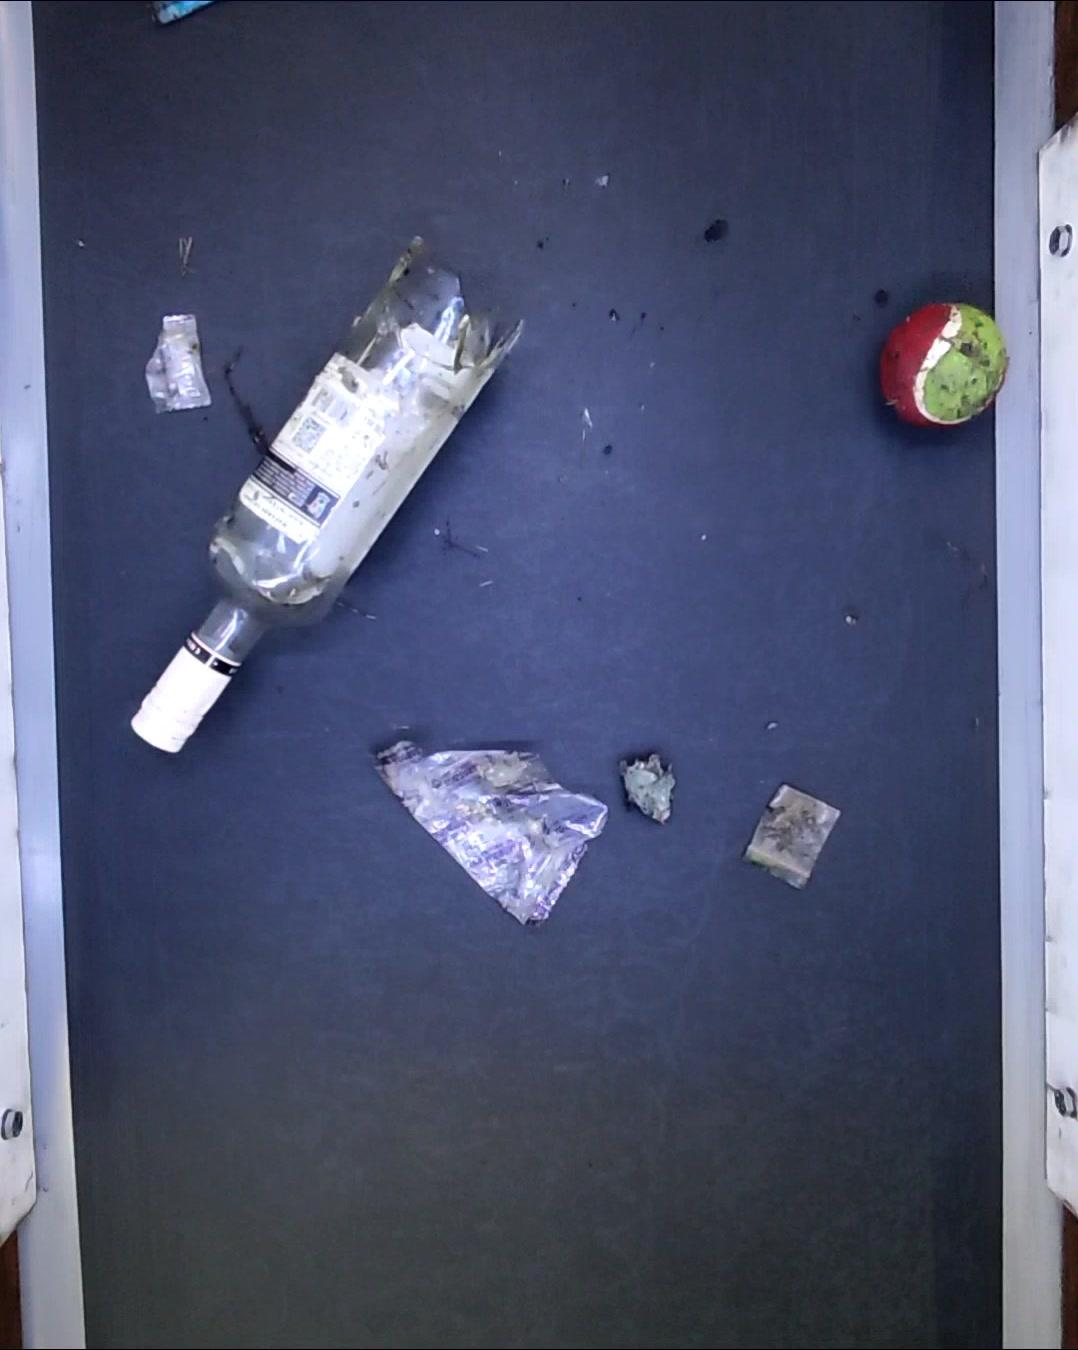Plastic folies of stukken daarvan 2.5- 50 cm: (747, 787, 838, 890), (146, 314, 219, 413)
Snoep snack en chips verpakkingen: (376, 738, 604, 929)
